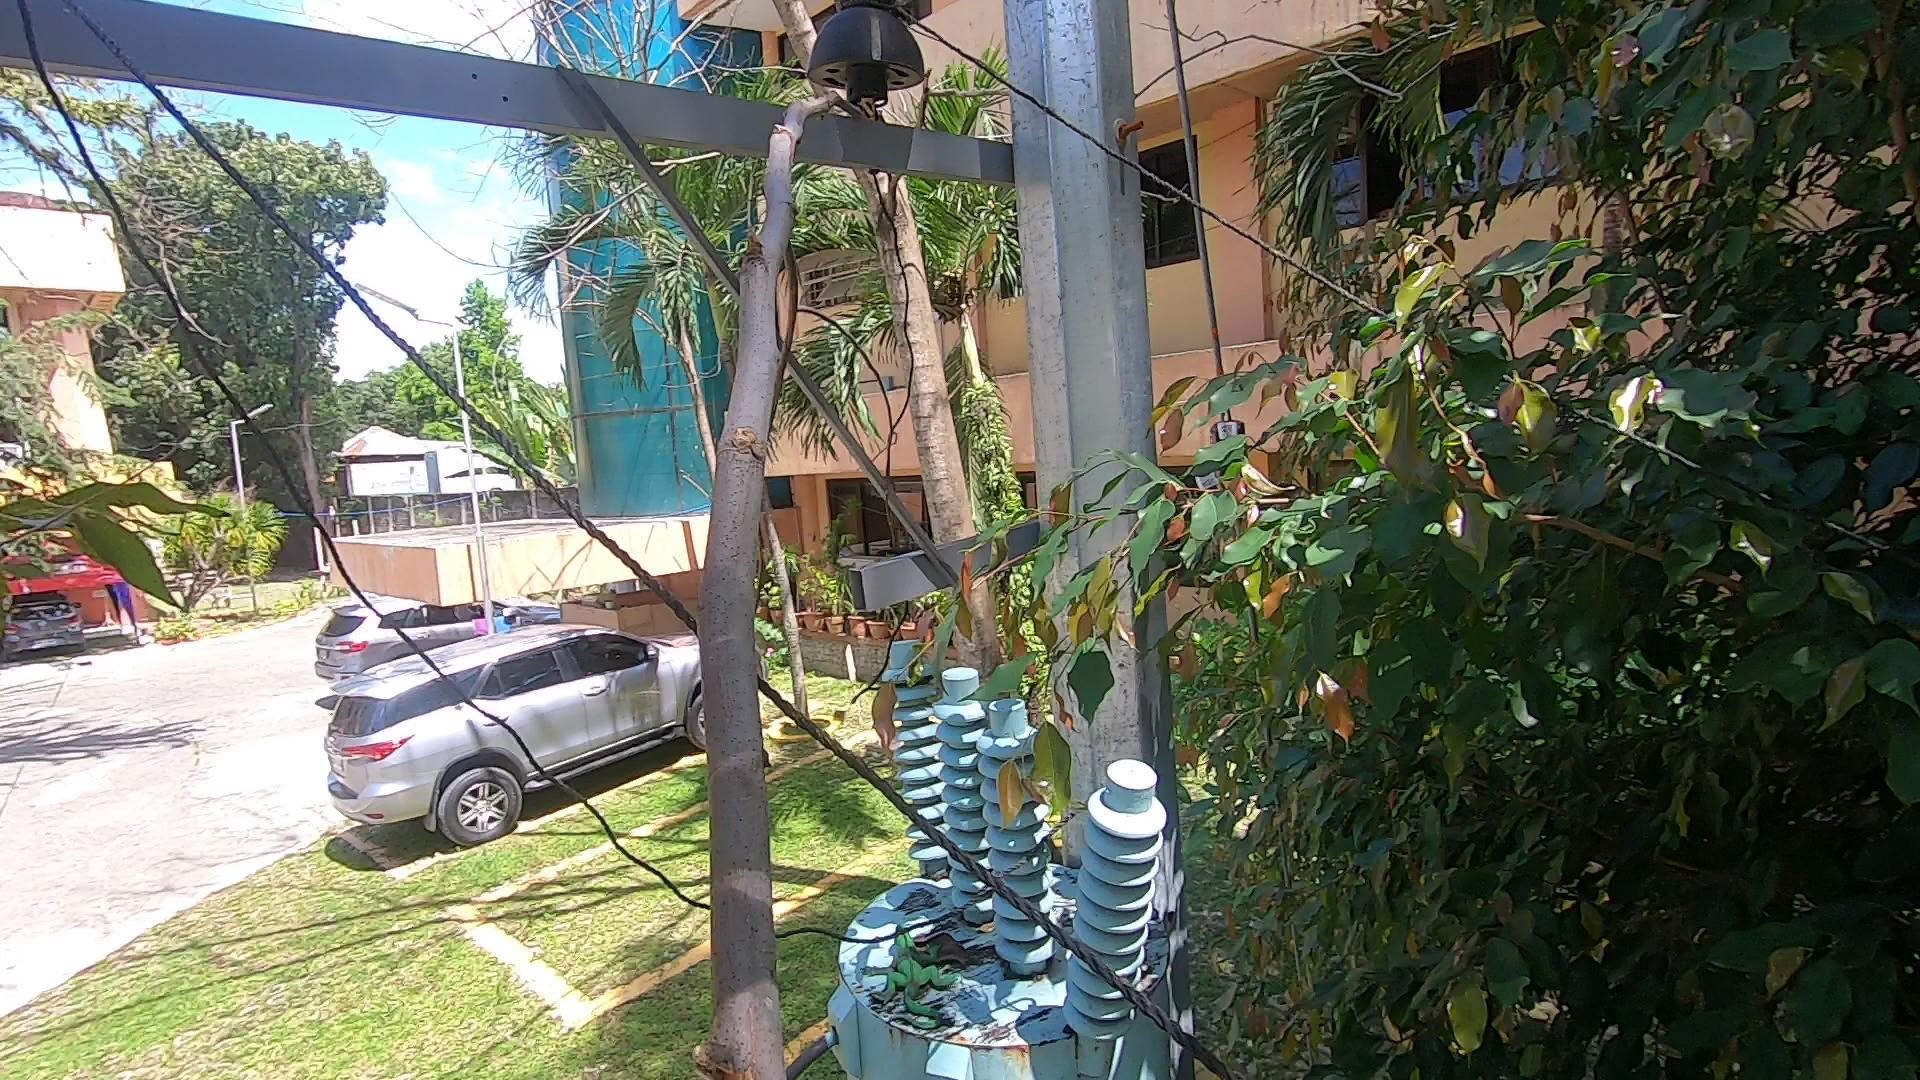branch with leaves: (837, 463, 1174, 833)
leaf: (901, 922, 1029, 988), (920, 861, 956, 897)
tree branch: (688, 47, 911, 1080)
